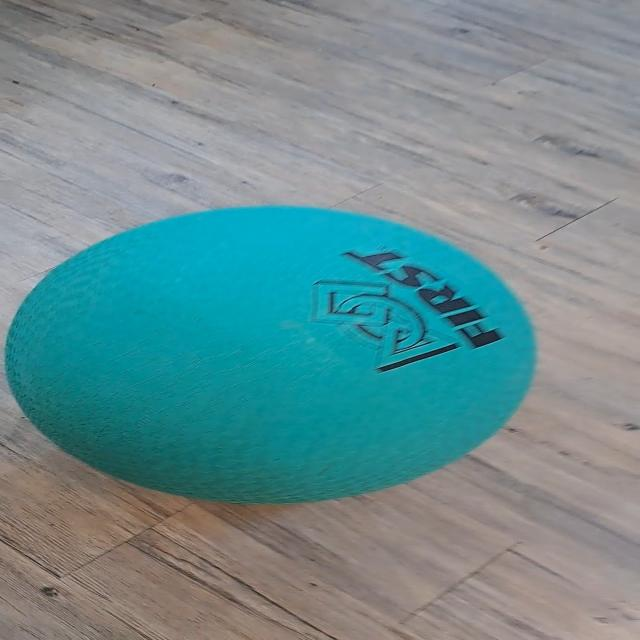ALGAE: (4, 204, 538, 506)
